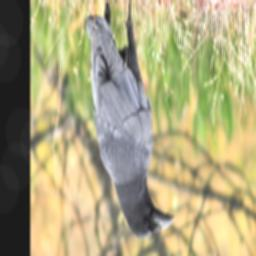Crow: (84, 0, 174, 239)
